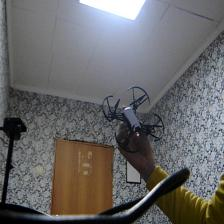drone: (100, 82, 167, 157)
